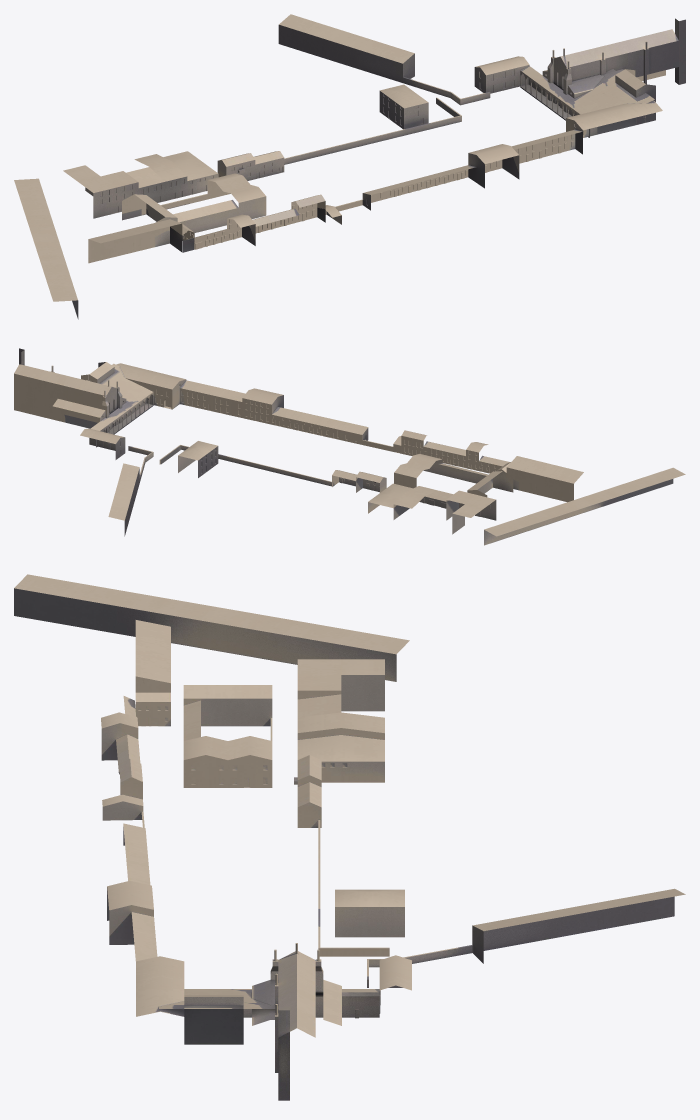
The model's file is Edifici cucinati 2K carta beige.glb.
3 views of the same model, one above another, from view 1: azimuth 30°, elevation 25°; view 2: azimuth 150°, elevation 25°; view 3: azimuth 270°, elevation 25° (orthographic). The views are drawn at different scales.
Parts seen in each view (by area): view 1: Contesto; view 2: Contesto; view 3: Contesto.
Part boxes in pixels (box(x1,y1,x2,y2)): Contesto: box(14, 14, 685, 319); Contesto: box(14, 348, 685, 545); Contesto: box(14, 574, 685, 1100).
Size of the model in its own units: 310 by 26.19 by 176.
Materials: 1 (1 with a texture image).
